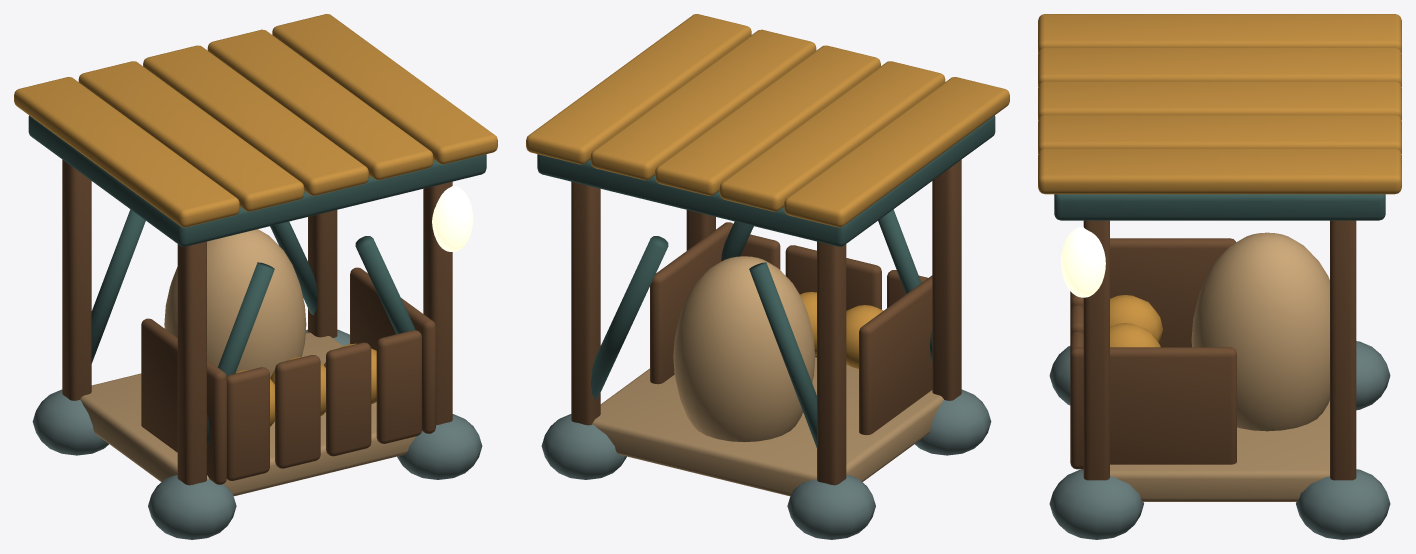
File: extractor_resin.glb
3 renders of one model, left to right at view 1: azimuth 30°, elevation 25°; view 2: azimuth 150°, elevation 25°; view 3: azimuth 270°, elevation 25°, orthographic. The views are drawn at different scales.
Parts seen in each view (by area): view 1: extractor_resin_part_0; view 2: extractor_resin_part_0; view 3: extractor_resin_part_0.
Boxes of the visible parts, x1=… form: extractor_resin_part_0: x1=14, y1=14, x2=497, y2=539; extractor_resin_part_0: x1=526, y1=14, x2=1009, y2=539; extractor_resin_part_0: x1=1038, y1=14, x2=1401, y2=539.
Size of the model in its own units: 2.1 by 2.18 by 1.92.
